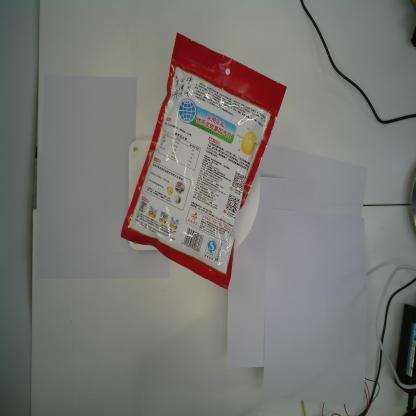Instant Drink: (120, 32, 288, 290)
